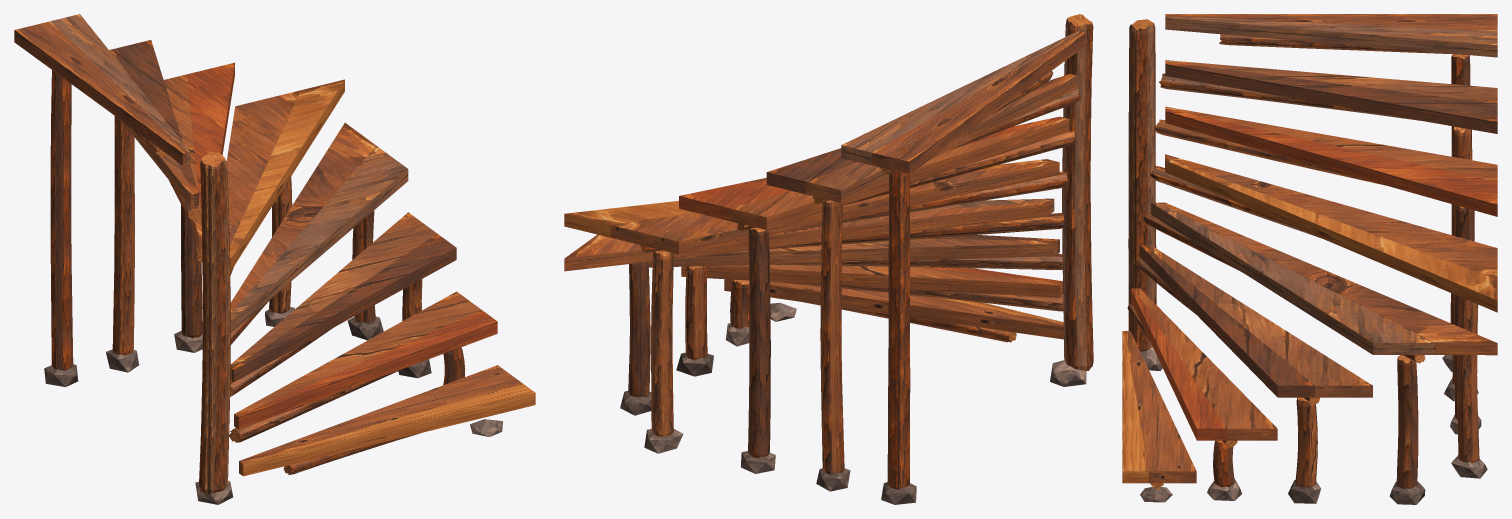
The model's file is stairs_corner__plank_root.glb.
3 renders of one model, left to right at view 1: azimuth 30°, elevation 25°; view 2: azimuth 150°, elevation 25°; view 3: azimuth 270°, elevation 25°, orthographic. The views are drawn at different scales.
Visible parts, largest first — view 1: model; view 2: model; view 3: model.
Boxes of the visible parts, <box> form: model: <box>14,14,535,504</box>; model: <box>564,14,1093,504</box>; model: <box>1122,14,1497,504</box>.
Size of the model in its own units: 1.99 by 1.99 by 1.99.
28 materials, 28 textured.
